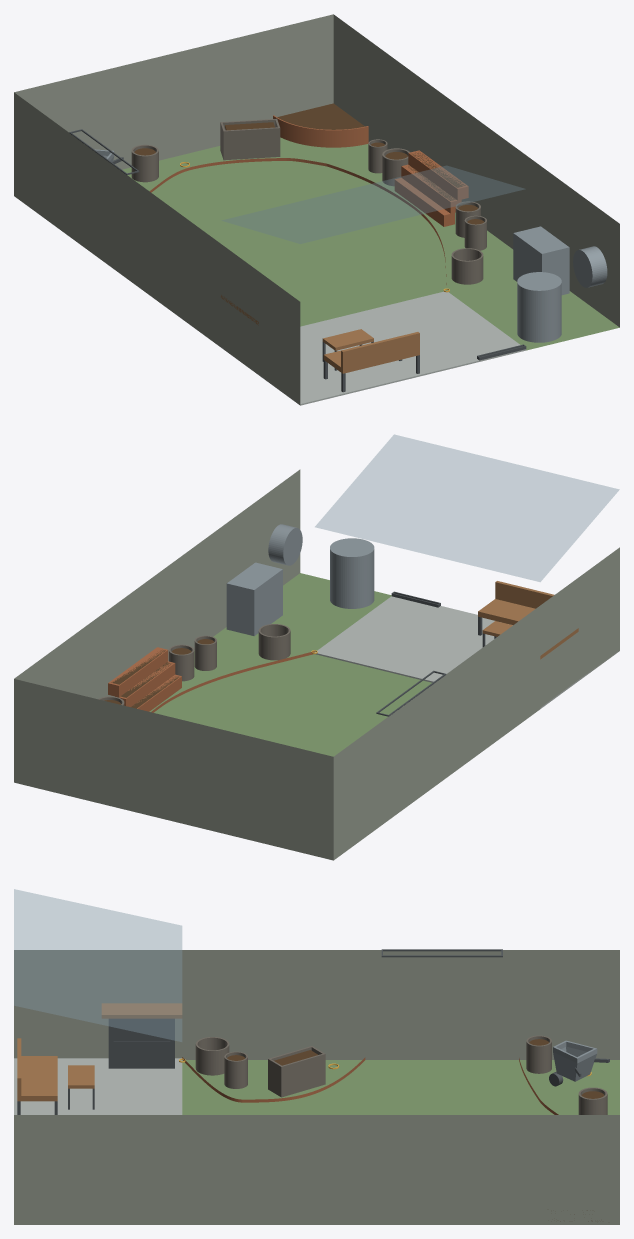
The model's file is garden_v0_16_3d_model.glb.
3 views of the same model, one above another, from view 1: azimuth 30°, elevation 25°; view 2: azimuth 150°, elevation 25°; view 3: azimuth 270°, elevation 25° (orthographic). The views are drawn at different scales.
Parts seen in each view (by area): view 1: EXISTING__GROUND_DATUM, EXISTING__FENCE_LEFT, EXISTING__FENCE_REAR, EXISTING__FENCE_RIGHT, EXISTING__PATIO, EXISTING__PATIO_ROOF_APPROX, V010_R5_APPROVED__WF__WORM, V010_R5_APPROVED__AC__AC, V016_R1__RHIZOME_BED__CORTEN_ARC, V010_R10_2_PART__T1__TROUGH_1__TROUGH_WALL_FRONT, V010_R10_2_PART__LS__LOUNGE__BACK, V016_R1__RHIZOME_BED__FILL (+11 smaller); view 2: EXISTING__FENCE_REAR, EXISTING__FENCE_LEFT, EXISTING__PATIO_ROOF_APPROX, EXISTING__GROUND_DATUM, EXISTING__FENCE_RIGHT, EXISTING__PATIO, V010_R5_APPROVED__AC__AC, V010_R5_APPROVED__WF__WORM, V010_R5_APPROVED__HR__HOSE, V010_R10_2_PART__3T__BED__TIER_3, V010_R10_2_PART__G2__G2__OPEN_BOTTOM_RING, V010_R10_2_PART__LS__LOUNGE__BACK (+6 smaller); view 3: EXISTING__FENCE_RIGHT, EXISTING__FENCE_LEFT, EXISTING__PATIO_ROOF_APPROX, EXISTING__GROUND_DATUM, EXISTING__PATIO, V010_R10_2_PART__WK__WORK__CABINET, V010_R10_2_PART__LS__LOUNGE__SEAT, V010_R10_2_PART__T2__TROUGH_2__TROUGH_WALL_FRONT, V010_R10_2_PART__WK__WORK__WORKTOP, V010_R10_2_PART__G1__G1__OPEN_BOTTOM_RING, V010_R10_2_PART__P5__PLANTER_5__CONTAINER, V010_R10_2_PART__WB__WHEEL__TRAY (+6 smaller).
Part boxes in pixels (x1,y1,x2,y2): EXISTING__GROUND_DATUM: (122,137,619,350); EXISTING__FENCE_LEFT: (14,92,300,405); EXISTING__FENCE_REAR: (14,14,333,169); EXISTING__FENCE_RIGHT: (333,14,619,327); EXISTING__PATIO: (222,291,526,405); EXISTING__PATIO_ROOF_APPROX: (222,165,524,243); V010_R5_APPROVED__WF__WORM: (517,272,561,342); V010_R5_APPROVED__AC__AC: (513,226,569,295); V016_R1__RHIZOME_BED__CORTEN_ARC: (273,115,368,147); V010_R10_2_PART__T1__TROUGH_1__TROUGH_WALL_FRONT: (225,127,278,159); V010_R10_2_PART__LS__LOUNGE__BACK: (341,332,419,368); V016_R1__RHIZOME_BED__FILL: (277,103,364,129); EXISTING__FENCE_REAR: (14,679,333,860); EXISTING__FENCE_LEFT: (333,547,619,859); EXISTING__PATIO_ROOF_APPROX: (315,434,619,581); EXISTING__GROUND_DATUM: (149,573,431,756); EXISTING__FENCE_RIGHT: (14,469,300,699); EXISTING__PATIO: (315,596,619,708); V010_R5_APPROVED__AC__AC: (226,562,282,635); V010_R5_APPROVED__WF__WORM: (330,538,374,608); V010_R5_APPROVED__HR__HOSE: (268,524,302,565); V010_R10_2_PART__3T__BED__TIER_3: (108,647,168,697); V010_R10_2_PART__G2__G2__OPEN_BOTTOM_RING: (258,624,290,660); V010_R10_2_PART__LS__LOUNGE__BACK: (495,581,554,608); EXISTING__FENCE_RIGHT: (14,1115,619,1224); EXISTING__FENCE_LEFT: (14,950,619,1059); EXISTING__PATIO_ROOF_APPROX: (14,889,181,1041); EXISTING__GROUND_DATUM: (182,1060,619,1114); EXISTING__PATIO: (14,1058,182,1114); V010_R10_2_PART__WK__WORK__CABINET: (108,1018,174,1068); V010_R10_2_PART__LS__LOUNGE__SEAT: (17,1056,57,1101); V010_R10_2_PART__T2__TROUGH_2__TROUGH_WALL_FRONT: (282,1054,323,1096); V010_R10_2_PART__WK__WORK__WORKTOP: (101,1003,182,1018); V010_R10_2_PART__G1__G1__OPEN_BOTTOM_RING: (195,1037,229,1075); V010_R10_2_PART__P5__PLANTER_5__CONTAINER: (526,1035,551,1073); V010_R10_2_PART__WB__WHEEL__TRAY: (553,1046,596,1081).
Size of the model in its own units: 5.8 by 2.8 by 9.
